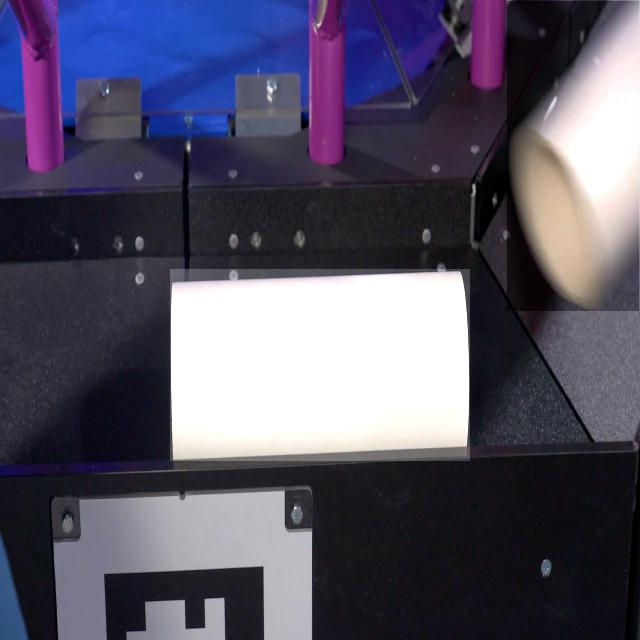Coral: (170, 269, 470, 461), (507, 1, 639, 311)
